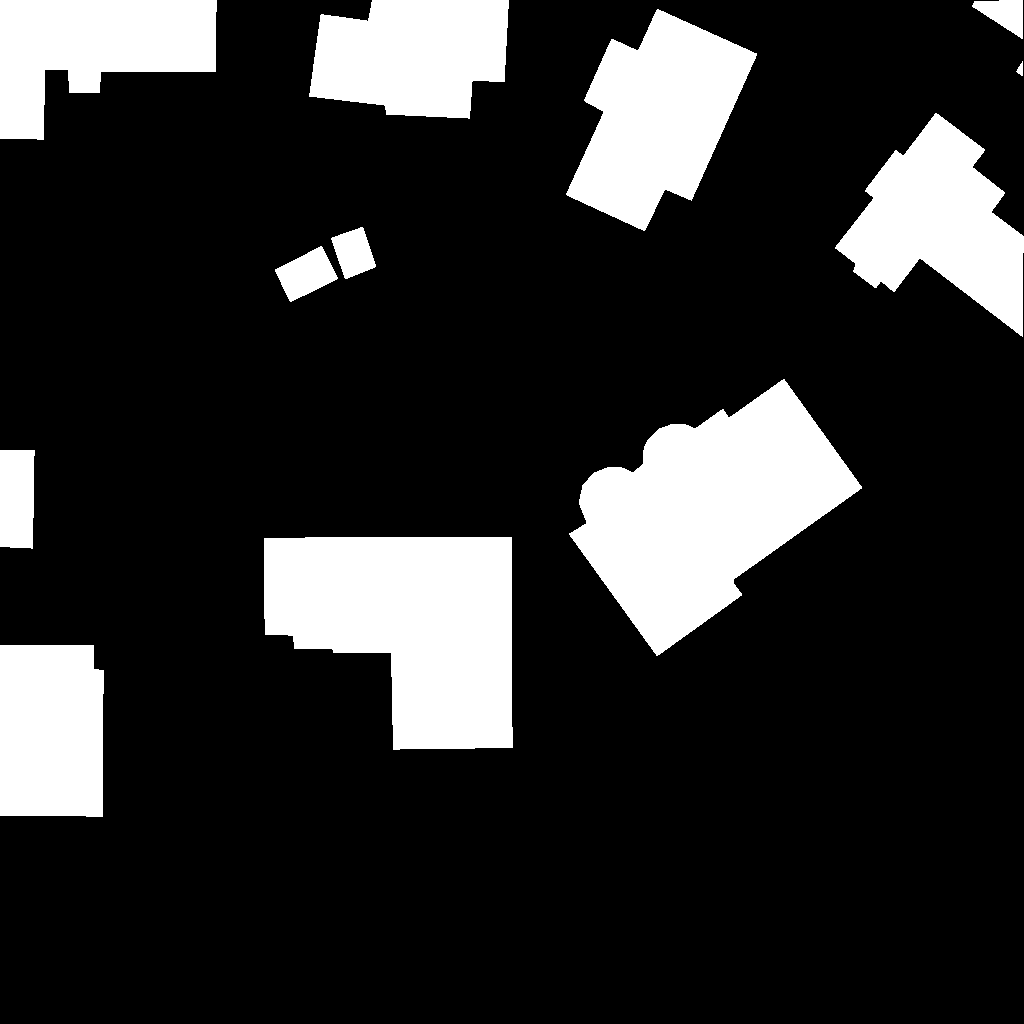building: (569, 379, 863, 657), (264, 537, 513, 750), (566, 9, 758, 232), (835, 113, 1024, 338), (0, 0, 217, 140), (309, 0, 510, 119), (0, 645, 104, 817), (972, 0, 1024, 77), (275, 246, 339, 303), (0, 450, 35, 549), (331, 227, 377, 280)
